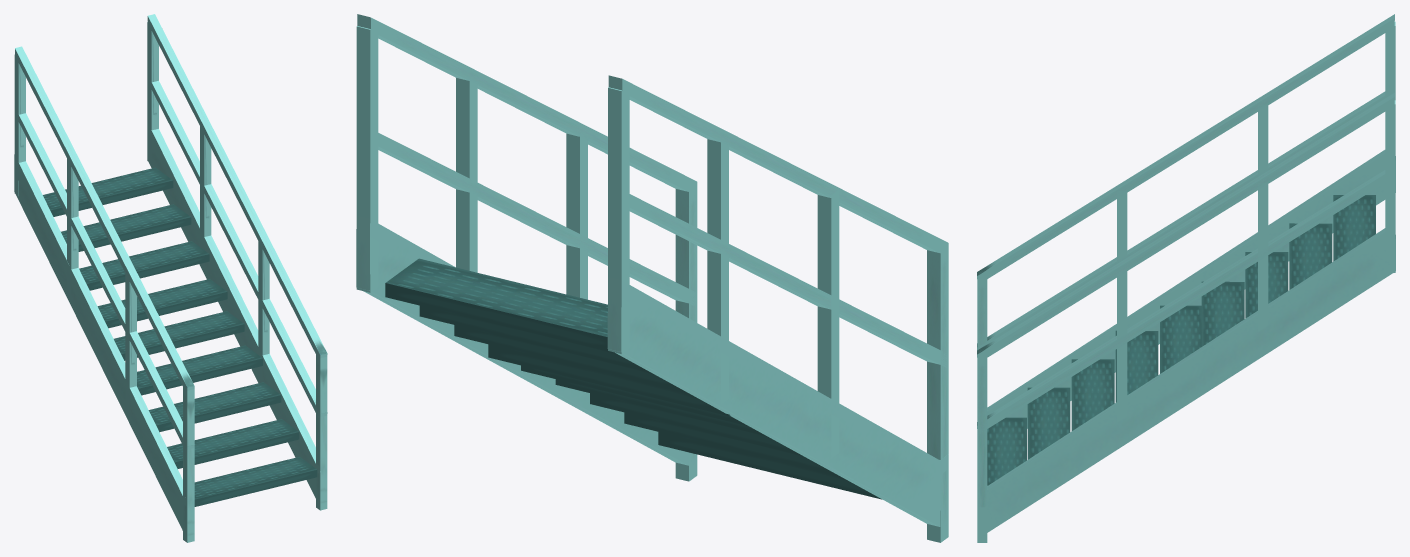
The model's file is trap.fbx.
3 views of the same model, side by side, from view 1: azimuth 30°, elevation 25°; view 2: azimuth 150°, elevation 25°; view 3: azimuth 270°, elevation 25° (orthographic). The views are drawn at different scales.
Visible parts, largest first — view 1: pCube40; view 2: pCube40; view 3: pCube40.
Part boxes in pixels (<box>): pCube40: <box>14,14,327,542</box>; pCube40: <box>356,14,948,542</box>; pCube40: <box>977,14,1395,542</box>.
Size of the model in its own units: 3.87 by 9.72 by 8.27.
5 materials, 5 textured.
